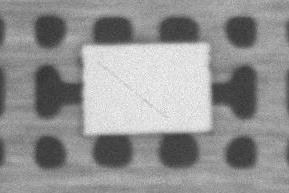DIE_CRACK: (147, 41, 250, 79)
